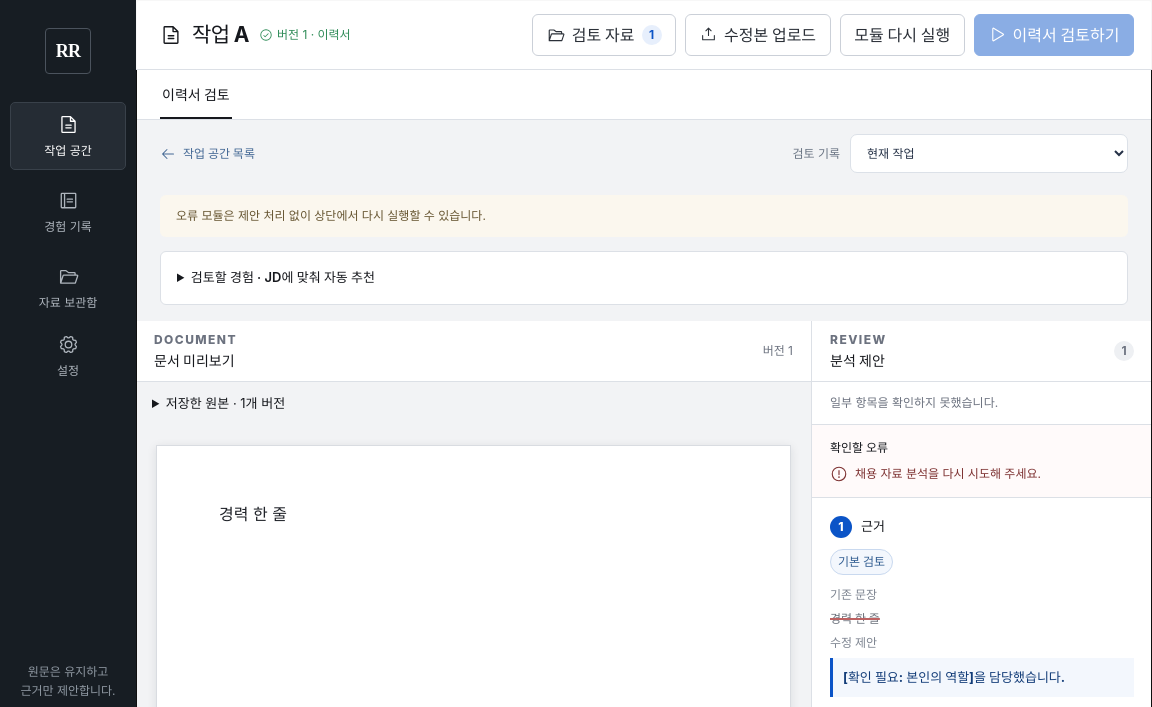
Test: retries an error from the header without requiring decisions on open proposals
Expected: the header "모듈 다시 실행" is shown, left=136, top=0, right=1151, bottom=70
Click the button "모듈 다시 실행". click: (902, 34)
box: left=840, top=14, right=965, bottom=56
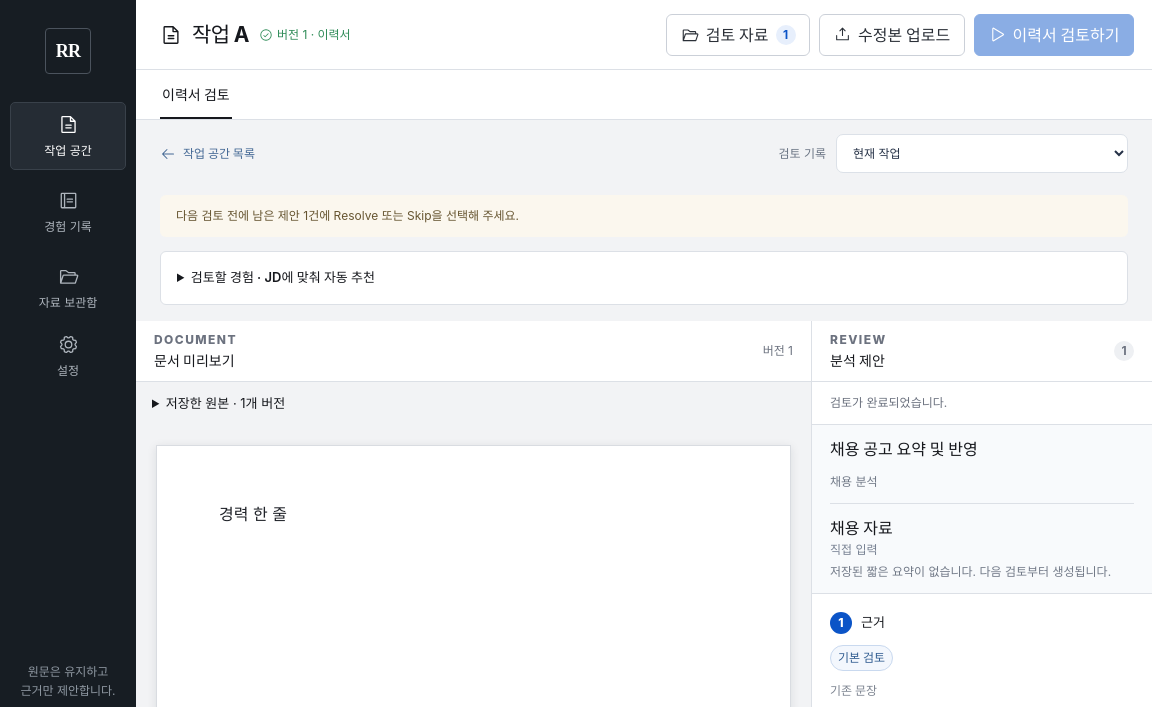
Result: the button "모듈 다시 실행" is gone
